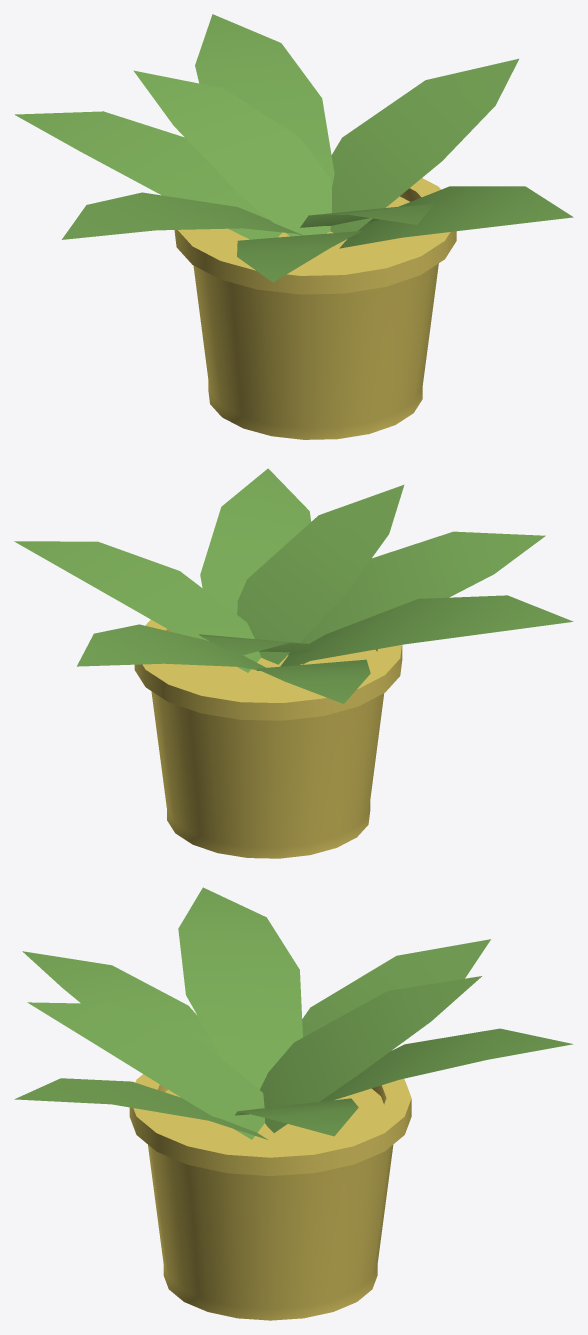
File: Plant.fbx
The picture shows the model from 3 angles, top to bottom: view 1: azimuth 30°, elevation 25°; view 2: azimuth 150°, elevation 25°; view 3: azimuth 270°, elevation 25°; orthographic projection. The views are drawn at different scales.
Parts seen in each view (by area): view 1: pasted__palm1; view 2: pasted__palm1; view 3: pasted__palm1.
Boxes of the visible parts, x1,y1,x2,y2 form: pasted__palm1: [15, 14, 573, 439]; pasted__palm1: [14, 468, 573, 858]; pasted__palm1: [14, 887, 573, 1320].
Bounding box in the file's own units: 6.93 × 3.34 × 6.45.
